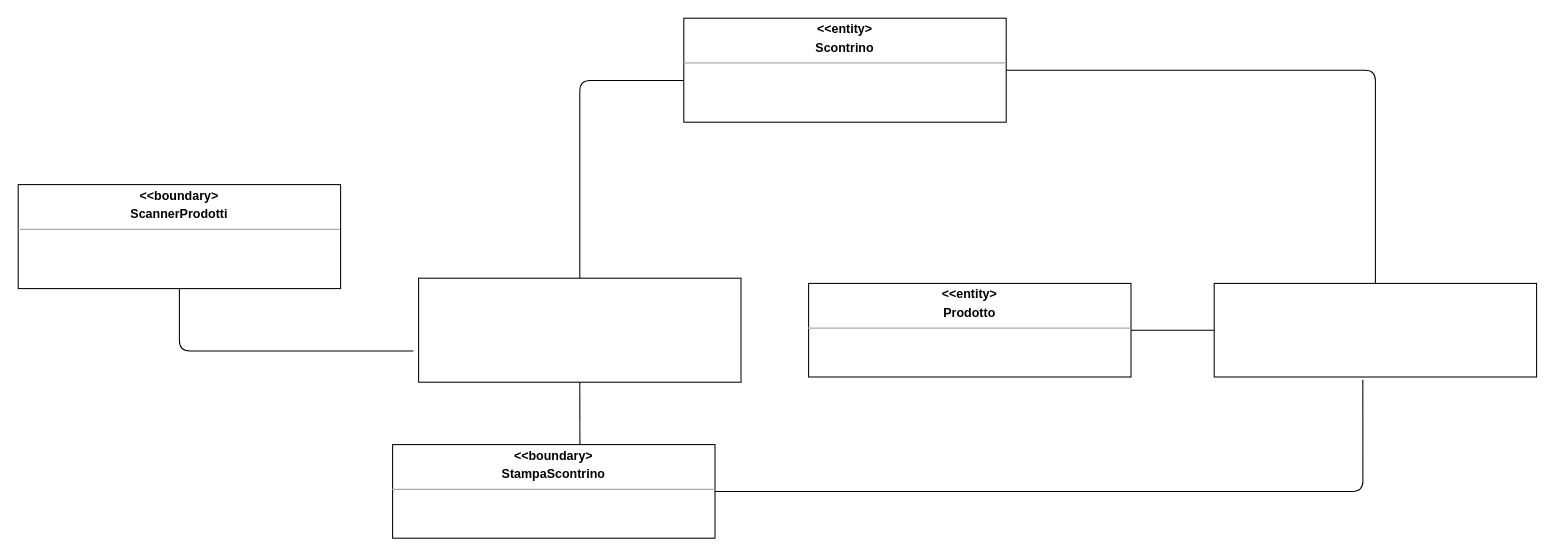
The diagram is 1555 pixels wide and 556 high, and some of its shapes have lost their labels. The shapes that lost their labels are listed below. From the top down, each one's centre as x and y in pixels, then its label:
At (x=579, y=329): "<<control> ScannerProdottiControl".
At (x=1375, y=329): "<<control> AggiornaMagazzinoControl".
